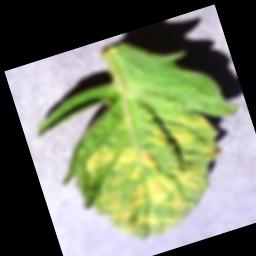Leaf_Mold: (80, 128, 219, 251), (145, 105, 221, 159), (80, 144, 117, 175), (200, 141, 223, 163)
